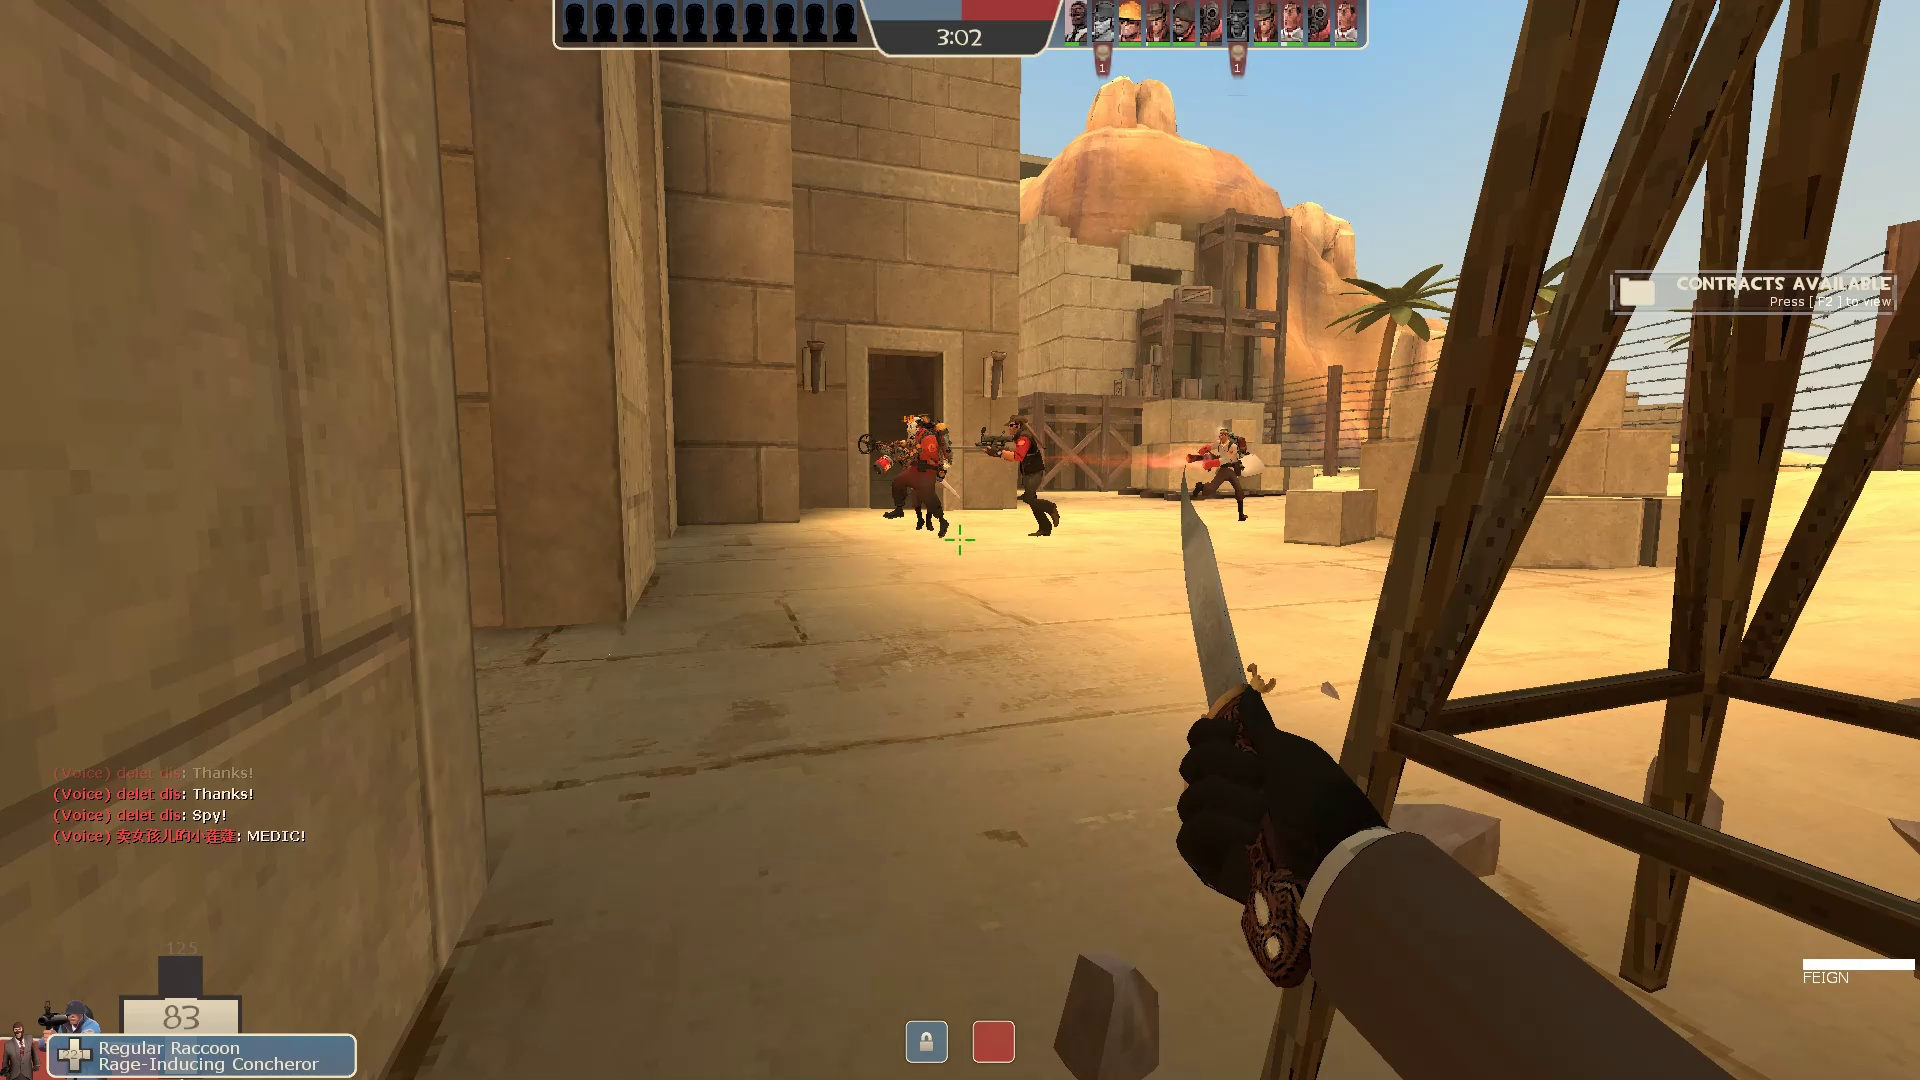red_medic: (1180, 419, 1258, 529)
red_pyro: (855, 414, 953, 539)
red_sniper: (953, 410, 1068, 541)
